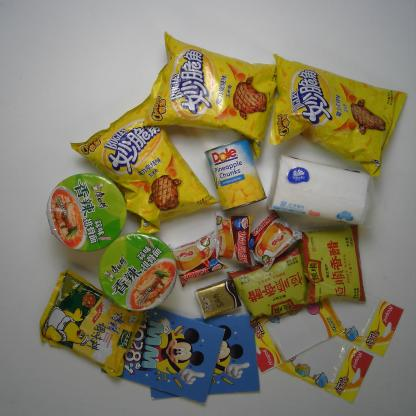Canned Food: (204, 137, 267, 212)
Dessert: (166, 230, 228, 288), (248, 209, 304, 273), (213, 208, 254, 267)
Instant Noodles: (46, 172, 127, 252), (98, 232, 178, 311)
Puffed Food: (70, 93, 221, 235), (141, 30, 279, 160), (268, 53, 407, 178)
Seasoner: (38, 268, 144, 377), (226, 245, 314, 325), (297, 224, 367, 306)
Stationery: (100, 306, 226, 404), (150, 312, 261, 400), (269, 324, 374, 404), (248, 292, 346, 374), (306, 280, 404, 358)
Tissue: (265, 153, 371, 226), (194, 277, 243, 320)
